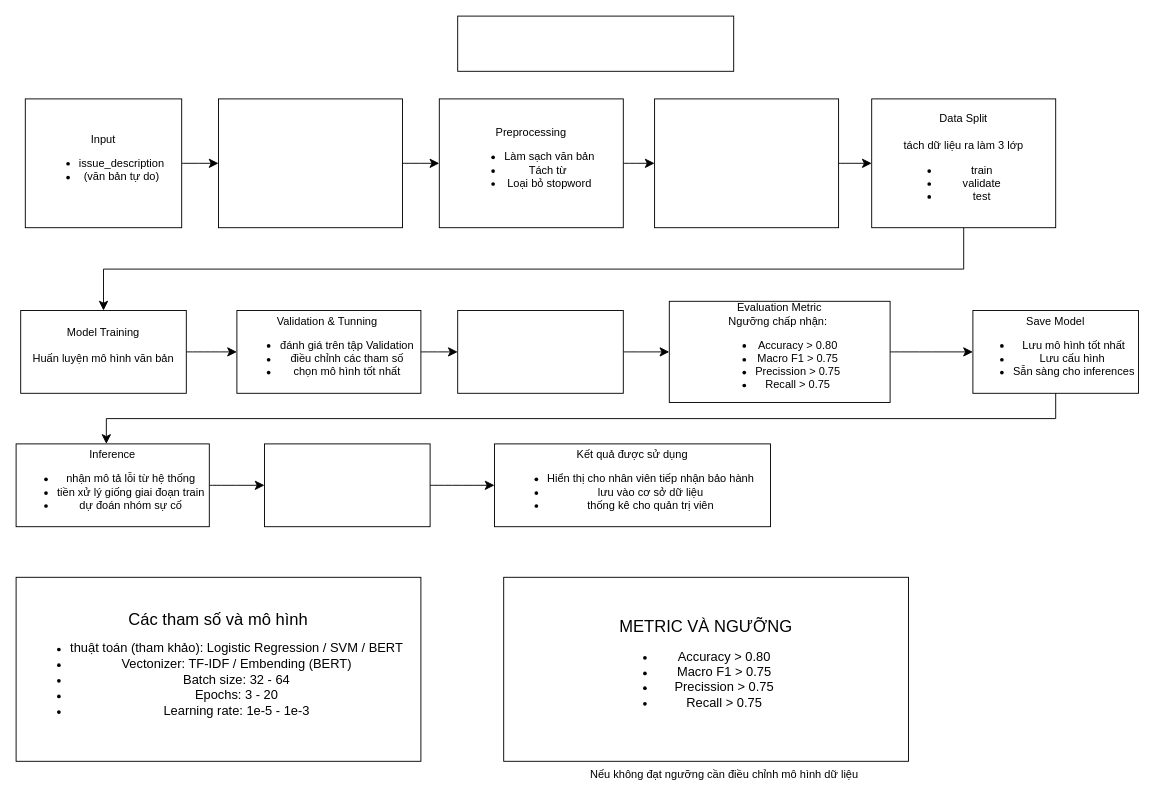
Image size: 1155x805. Some labels were removed from this diagram. The shapes that lost their labels are listed below. From the top down, each one's centre as x and y in pixels, then its label:
At [595,43]: "ML PILELINE - TRACK AI Phân loại tự động yêu cầu bảo hành".
At [310,163]: "Data Validation Kiểm tra dữ liệu đầu vào loại bỏ dữ liệu trống / không hợp lệ".
At [746,163]: "Feature Presentation Convert to Vector Chuẩn hóa đặc trưng".
At [540,351]: "Testing đánh giá dựa trên tập test".
At [347,485]: "Output predicted_category classification_status".
